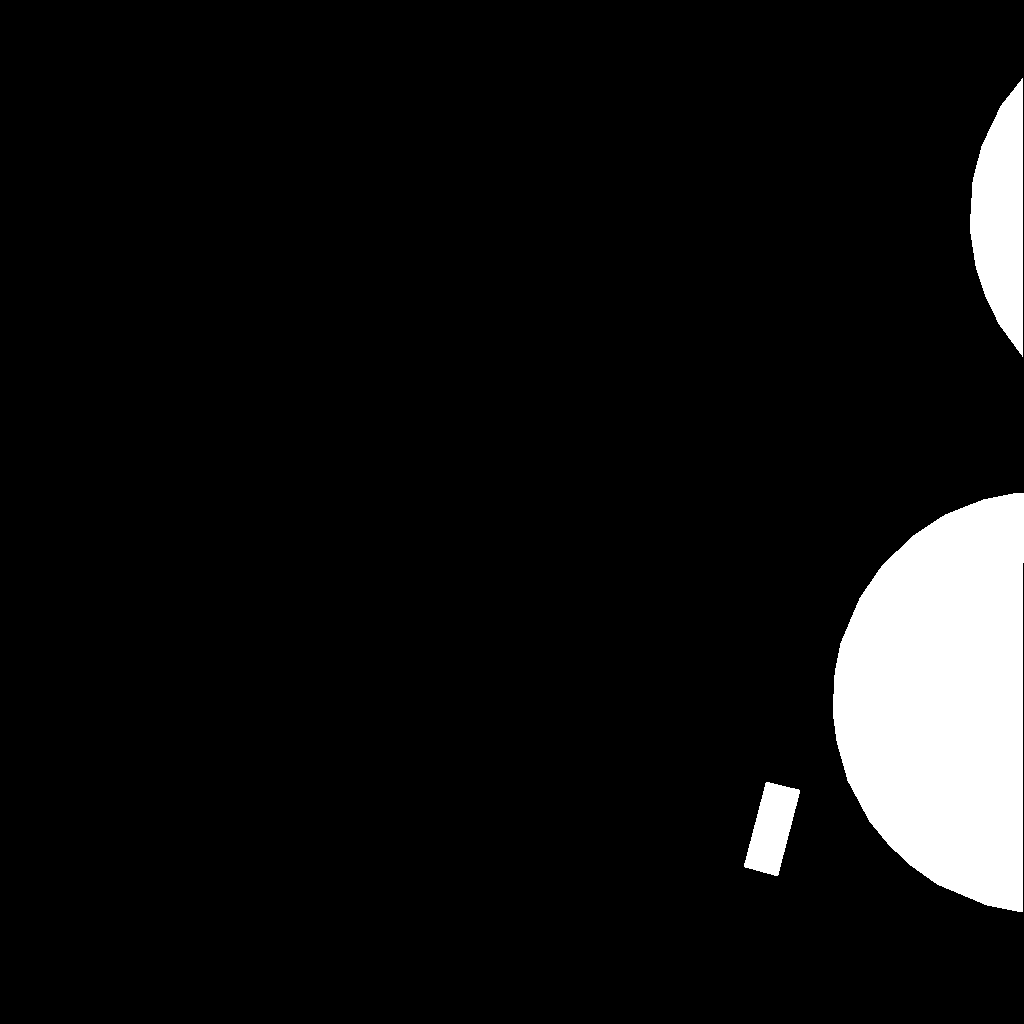building: (833, 493, 1024, 913), (970, 78, 1024, 358), (744, 782, 801, 877)
